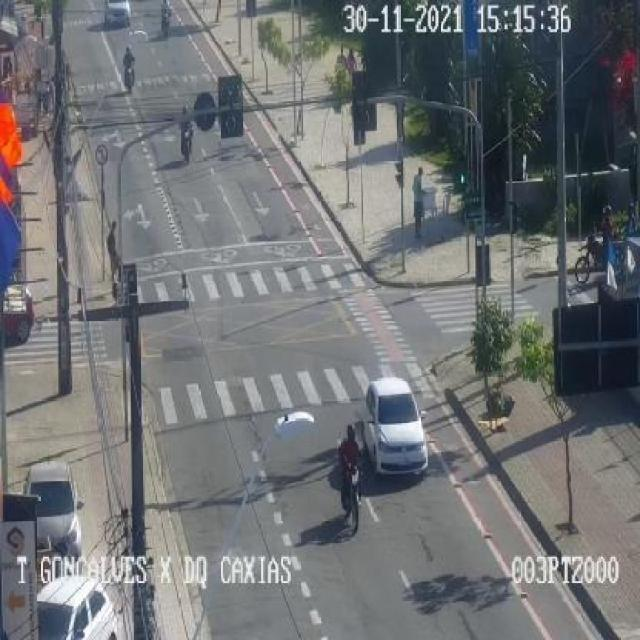Car: (359, 368, 435, 478), (0, 454, 84, 552), (24, 574, 118, 639), (97, 0, 144, 28)
Cycle: (325, 423, 372, 515), (565, 228, 616, 295), (165, 103, 208, 167), (113, 47, 152, 92), (153, 0, 184, 36)
